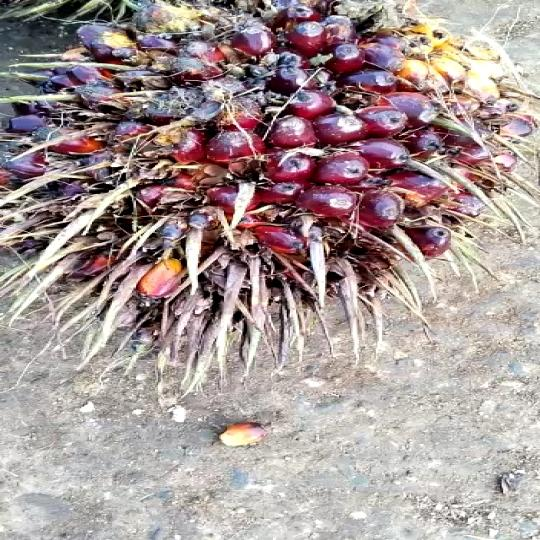masak: (10, 0, 540, 378)
